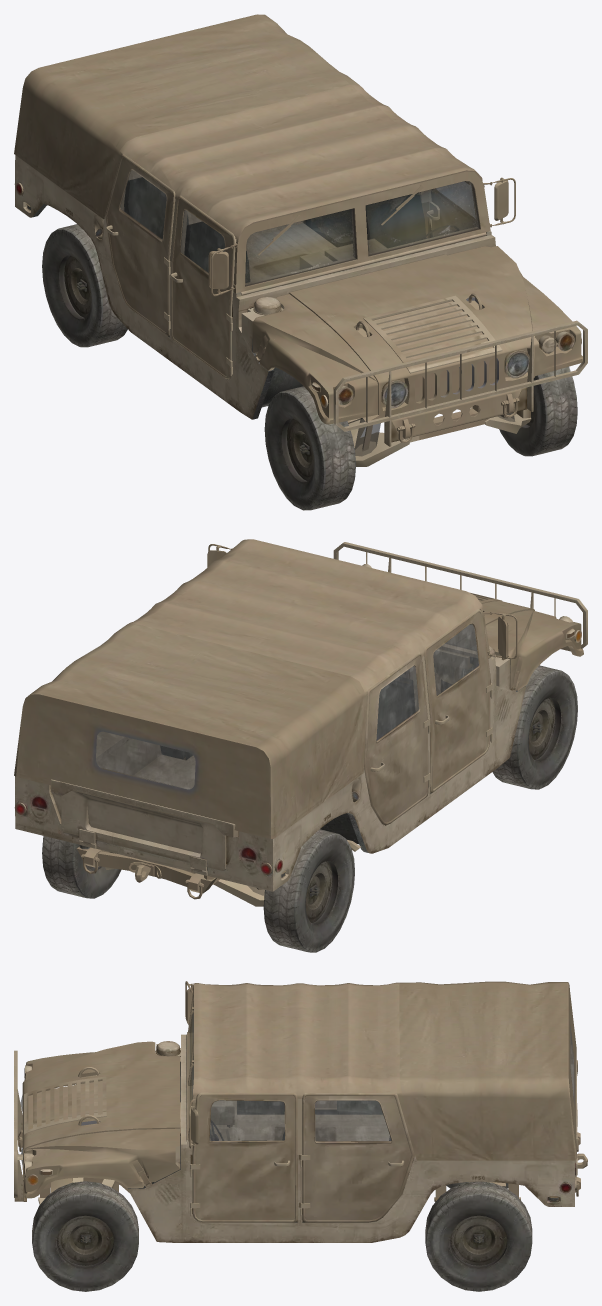
File: v_hmmwv.glb
3 renders of one model, top to bottom at view 1: azimuth 30°, elevation 25°; view 2: azimuth 150°, elevation 25°; view 3: azimuth 270°, elevation 25°, orthographic. The views are drawn at different scales.
Parts seen in each view (by area): view 1: Object_HMMWV_Utility_mat4_D.jpg_mat_6-HMMWV_Utility_mat4_D.j, Object_HMMWV_Utility_mat1_D.jpg_mat_0-HMMWV_Utility_mat1_D.j, Object_HMMWV_Utility_mat3_D.jpg_mat_1-HMMWV_Utility_mat3_D.j, Object_HMMWV_Utility_mat2_D.jpg_mat_2-HMMWV_Utility_mat2_D.j, Object_HMMWV_Utility_mat5_D.jpg_mat_3-HMMWV_Utility_mat5_D.j, Object_HMMWV_Utility_mat6_D.jpg_mat_4-HMMWV_Utility_mat6_D.j, Object_HMMWV_Utility_mat7_D.jpg_mat_5-HMMWV_Utility_mat7_D.j; view 2: Object_HMMWV_Utility_mat4_D.jpg_mat_6-HMMWV_Utility_mat4_D.j, Object_HMMWV_Utility_mat2_D.jpg_mat_2-HMMWV_Utility_mat2_D.j, Object_HMMWV_Utility_mat3_D.jpg_mat_1-HMMWV_Utility_mat3_D.j, Object_HMMWV_Utility_mat1_D.jpg_mat_0-HMMWV_Utility_mat1_D.j, Object_HMMWV_Utility_mat7_D.jpg_mat_5-HMMWV_Utility_mat7_D.j, Object_HMMWV_Utility_mat6_D.jpg_mat_4-HMMWV_Utility_mat6_D.j, Object_HMMWV_Utility_mat5_D.jpg_mat_3-HMMWV_Utility_mat5_D.j; view 3: Object_HMMWV_Utility_mat4_D.jpg_mat_6-HMMWV_Utility_mat4_D.j, Object_HMMWV_Utility_mat1_D.jpg_mat_0-HMMWV_Utility_mat1_D.j, Object_HMMWV_Utility_mat3_D.jpg_mat_1-HMMWV_Utility_mat3_D.j, Object_HMMWV_Utility_mat2_D.jpg_mat_2-HMMWV_Utility_mat2_D.j, Object_HMMWV_Utility_mat7_D.jpg_mat_5-HMMWV_Utility_mat7_D.j, Object_HMMWV_Utility_mat6_D.jpg_mat_4-HMMWV_Utility_mat6_D.j, Object_HMMWV_Utility_mat5_D.jpg_mat_3-HMMWV_Utility_mat5_D.j.
Part boxes in pixels (x1=…): Object_HMMWV_Utility_mat4_D.jpg_mat_6-HMMWV_Utility_mat4_D.j: x1=14, y1=14, x2=482, y2=379; Object_HMMWV_Utility_mat1_D.jpg_mat_0-HMMWV_Utility_mat1_D.j: x1=181, y1=171, x2=582, y2=466; Object_HMMWV_Utility_mat3_D.jpg_mat_1-HMMWV_Utility_mat3_D.j: x1=42, y1=177, x2=577, y2=510; Object_HMMWV_Utility_mat2_D.jpg_mat_2-HMMWV_Utility_mat2_D.j: x1=14, y1=155, x2=581, y2=419; Object_HMMWV_Utility_mat5_D.jpg_mat_3-HMMWV_Utility_mat5_D.j: x1=245, y1=181, x2=572, y2=456; Object_HMMWV_Utility_mat6_D.jpg_mat_4-HMMWV_Utility_mat6_D.j: x1=333, y1=320, x2=587, y2=446; Object_HMMWV_Utility_mat7_D.jpg_mat_5-HMMWV_Utility_mat7_D.j: x1=120, y1=170, x2=475, y2=272; Object_HMMWV_Utility_mat4_D.jpg_mat_6-HMMWV_Utility_mat4_D.j: x1=14, y1=539, x2=492, y2=838; Object_HMMWV_Utility_mat2_D.jpg_mat_2-HMMWV_Utility_mat2_D.j: x1=14, y1=564, x2=581, y2=891; Object_HMMWV_Utility_mat3_D.jpg_mat_1-HMMWV_Utility_mat3_D.j: x1=42, y1=649, x2=577, y2=952; Object_HMMWV_Utility_mat1_D.jpg_mat_0-HMMWV_Utility_mat1_D.j: x1=76, y1=544, x2=583, y2=906; Object_HMMWV_Utility_mat7_D.jpg_mat_5-HMMWV_Utility_mat7_D.j: x1=96, y1=624, x2=478, y2=789; Object_HMMWV_Utility_mat6_D.jpg_mat_4-HMMWV_Utility_mat6_D.j: x1=333, y1=542, x2=587, y2=651; Object_HMMWV_Utility_mat5_D.jpg_mat_3-HMMWV_Utility_mat5_D.j: x1=32, y1=624, x2=573, y2=895; Object_HMMWV_Utility_mat4_D.jpg_mat_6-HMMWV_Utility_mat4_D.j: x1=190, y1=981, x2=576, y2=1222; Object_HMMWV_Utility_mat1_D.jpg_mat_0-HMMWV_Utility_mat1_D.j: x1=18, y1=981, x2=587, y2=1204; Object_HMMWV_Utility_mat3_D.jpg_mat_1-HMMWV_Utility_mat3_D.j: x1=32, y1=1050, x2=532, y2=1291; Object_HMMWV_Utility_mat2_D.jpg_mat_2-HMMWV_Utility_mat2_D.j: x1=17, y1=1032, x2=577, y2=1242; Object_HMMWV_Utility_mat7_D.jpg_mat_5-HMMWV_Utility_mat7_D.j: x1=209, y1=1031, x2=573, y2=1141; Object_HMMWV_Utility_mat6_D.jpg_mat_4-HMMWV_Utility_mat6_D.j: x1=14, y1=1050, x2=26, y2=1201; Object_HMMWV_Utility_mat5_D.jpg_mat_3-HMMWV_Utility_mat5_D.j: x1=20, y1=1003, x2=575, y2=1186.
Bounding box in the file's own units: 0.0136 × 0.00999 × 0.025.
7 materials, 6 textured.
